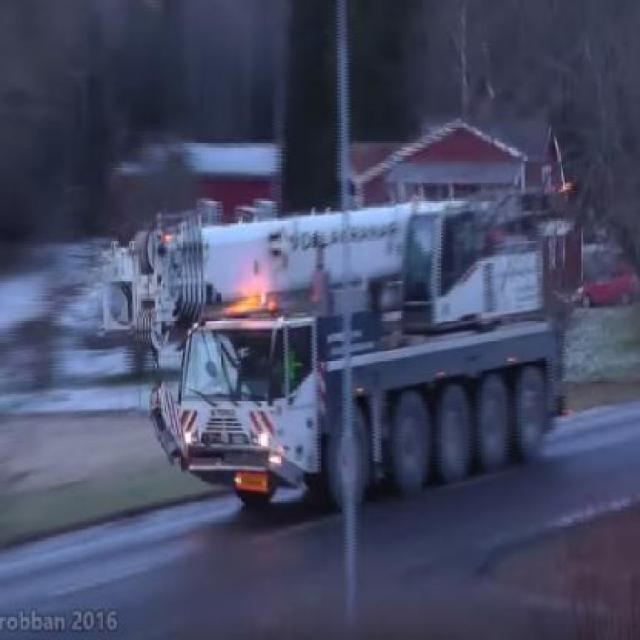Mobile Crane: (102, 184, 567, 513)
